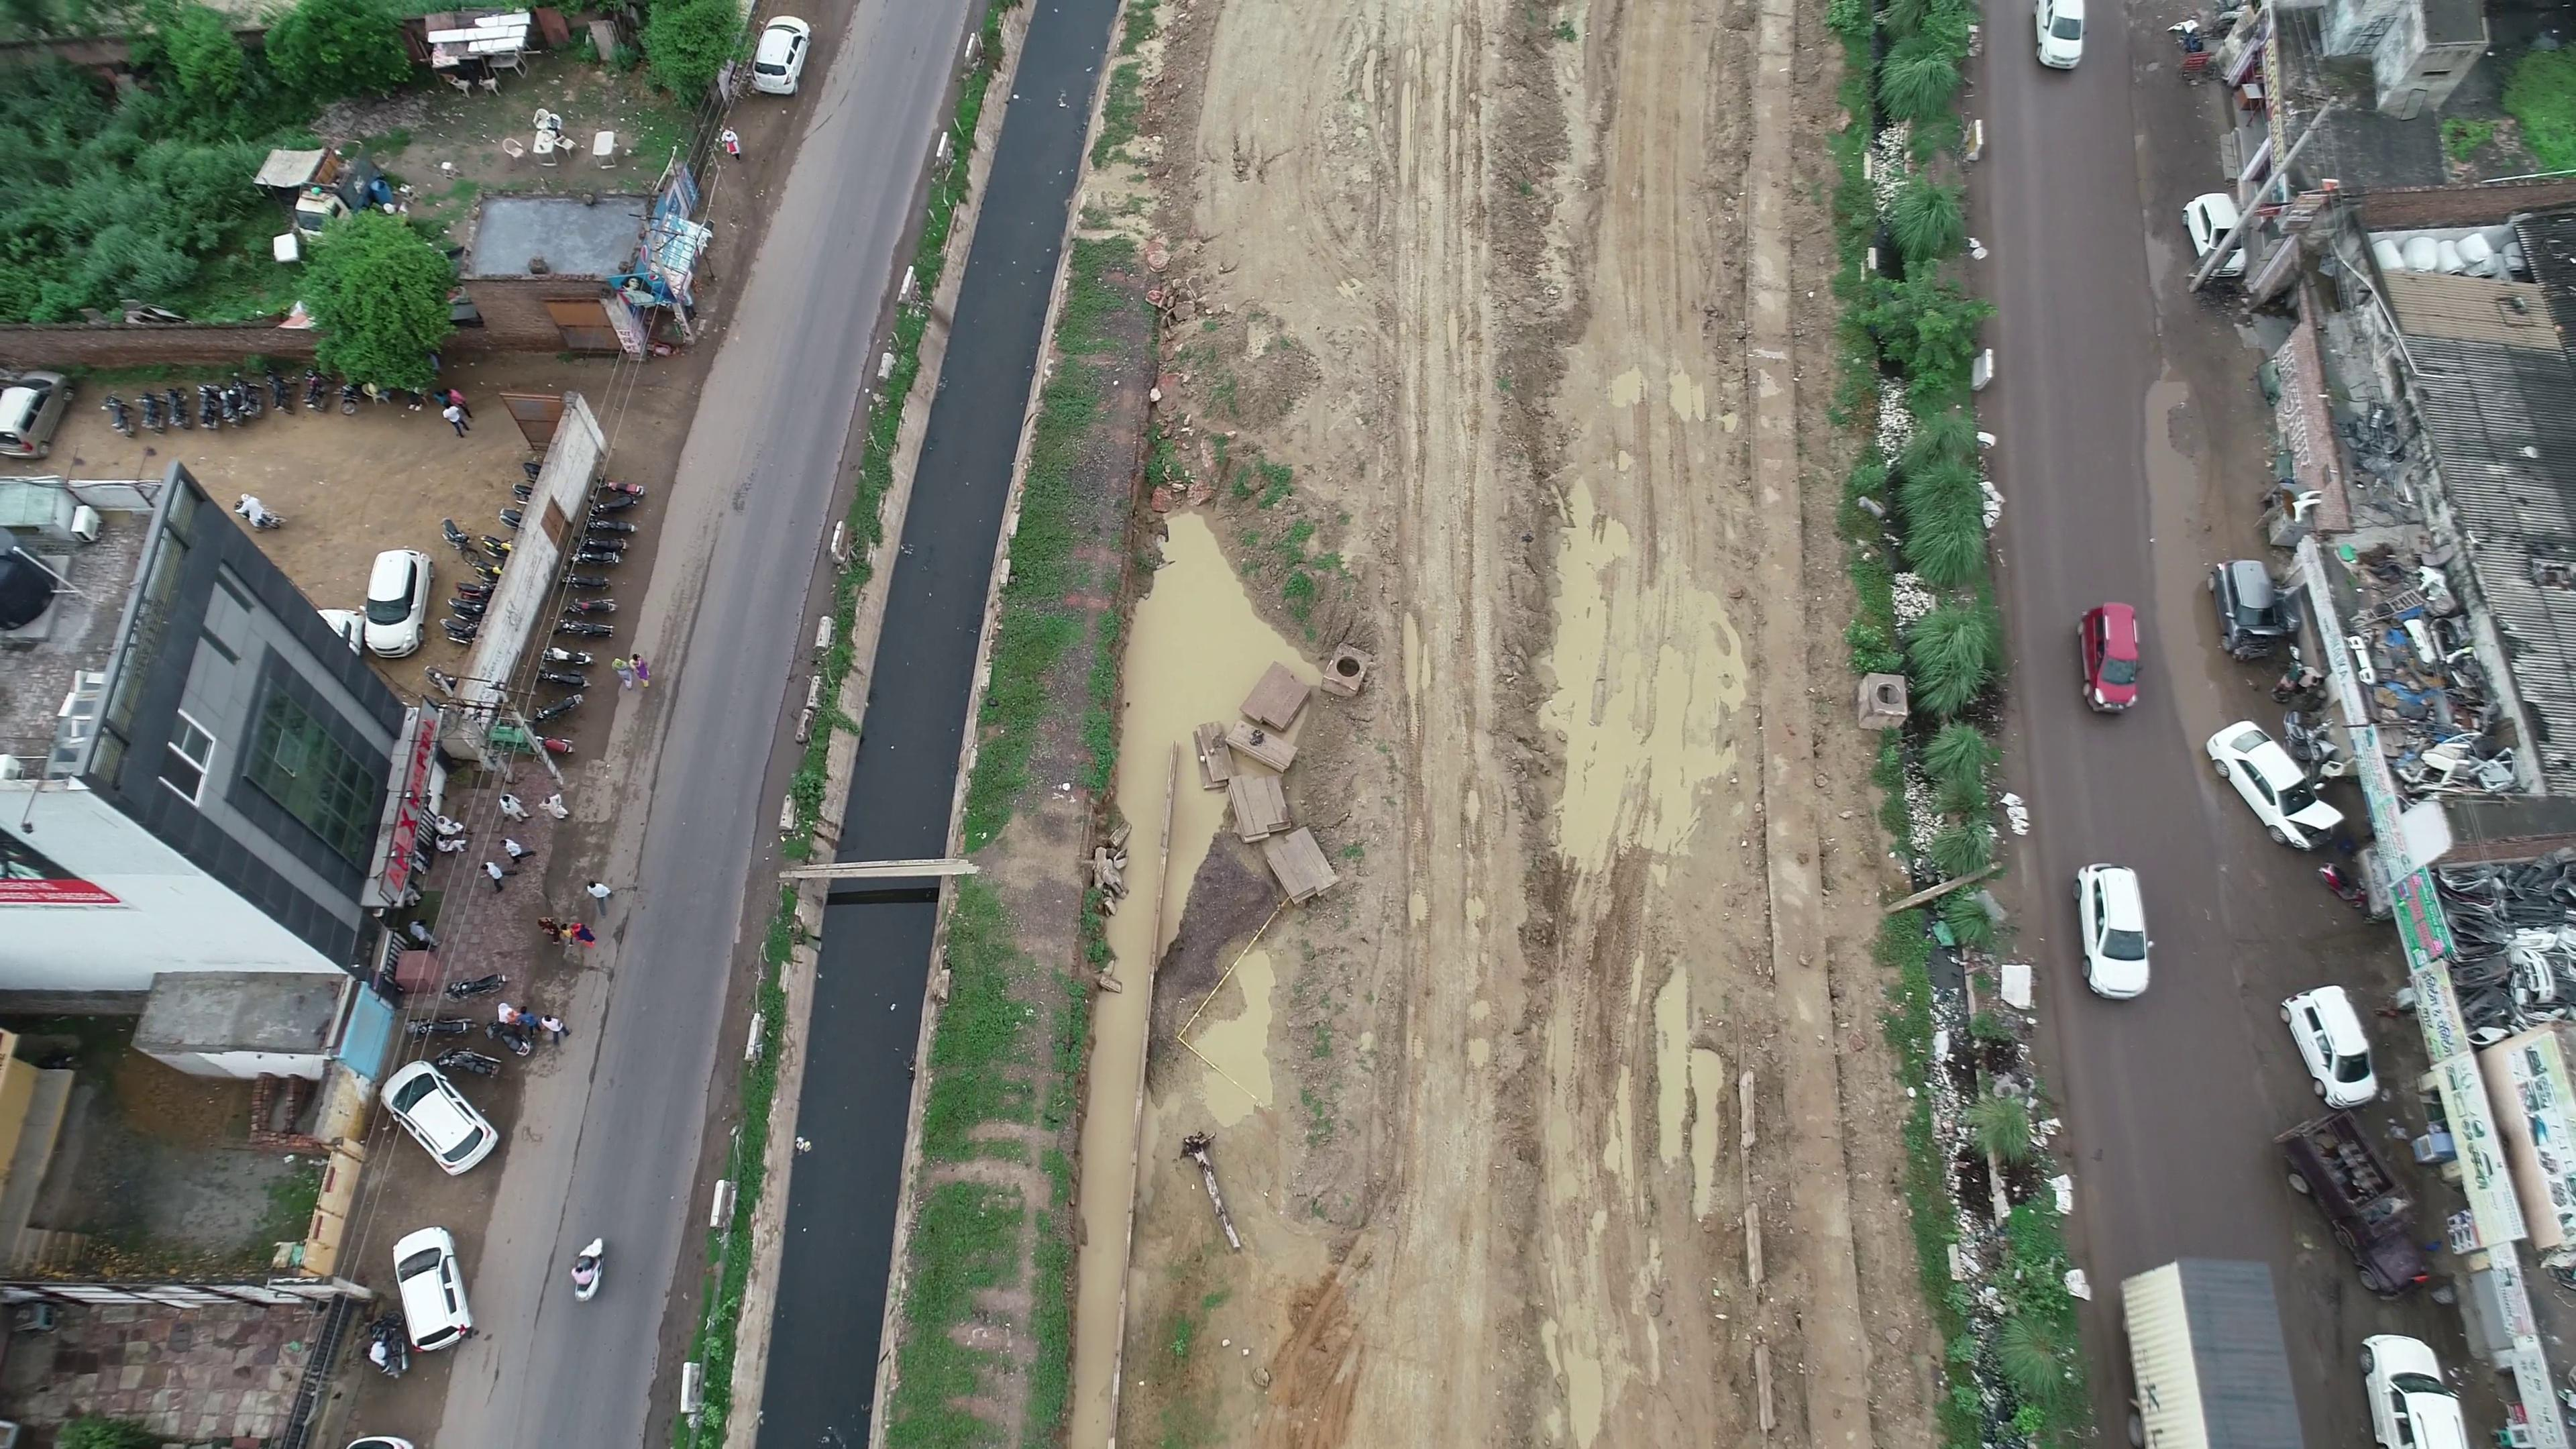Waterlogging: (2123, 370, 2235, 766)
